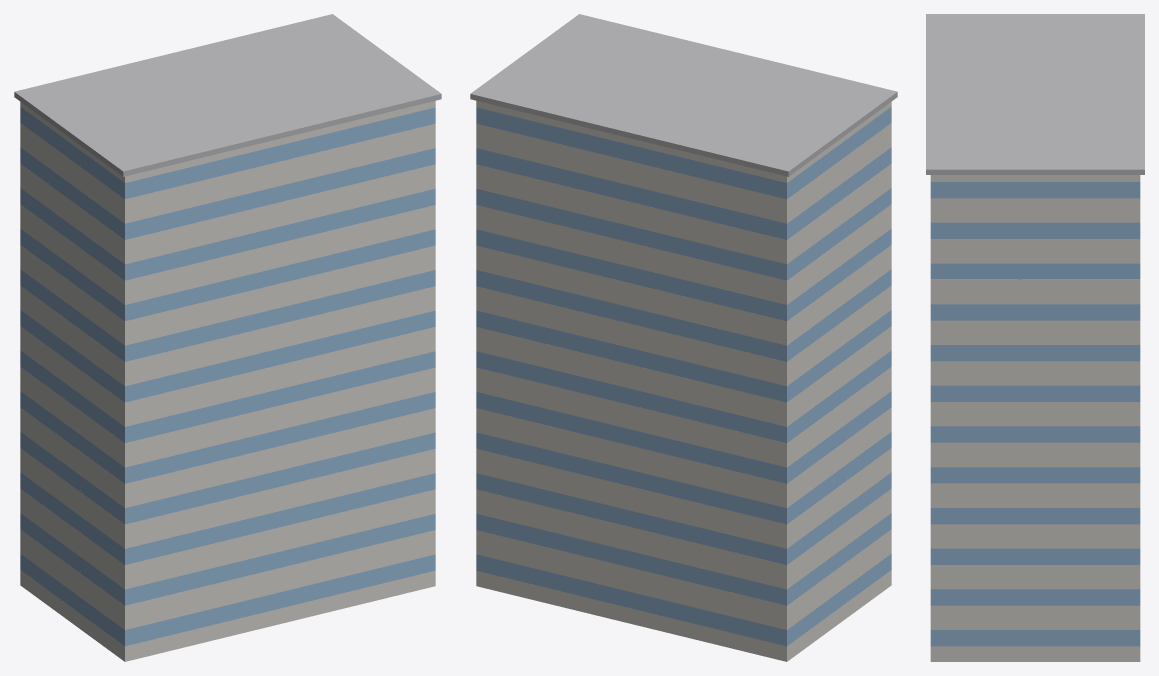
Rendered from tower-a.glb.
The picture shows the model from 3 angles, left to right: view 1: azimuth 30°, elevation 25°; view 2: azimuth 150°, elevation 25°; view 3: azimuth 270°, elevation 25°; orthographic projection.
Parts seen in each view (by area): view 1: FacadeS (×36), FacadeW (×35), Roof, Slab (×12); view 2: FacadeN (×36), FacadeW (×35), Roof, Slab (×12); view 3: FacadeE (×36), Roof, Slab (×12).
Part boxes in pixels (box(x1,y1,x2,y2)): FacadeS (×36): box(122, 101, 435, 658); FacadeW (×35): box(22, 108, 122, 656); Roof: box(14, 14, 441, 176); Slab (×12): box(20, 135, 435, 661); FacadeN (×36): box(476, 101, 789, 658); FacadeW (×35): box(789, 108, 889, 656); Roof: box(470, 14, 897, 176); Slab (×12): box(476, 135, 891, 661); FacadeE (×36): box(935, 175, 1135, 658); Roof: box(926, 14, 1144, 174); Slab (×12): box(930, 210, 1140, 661).
Bounding box in the file's own units: 24.6 × 36.4 × 14.6.
